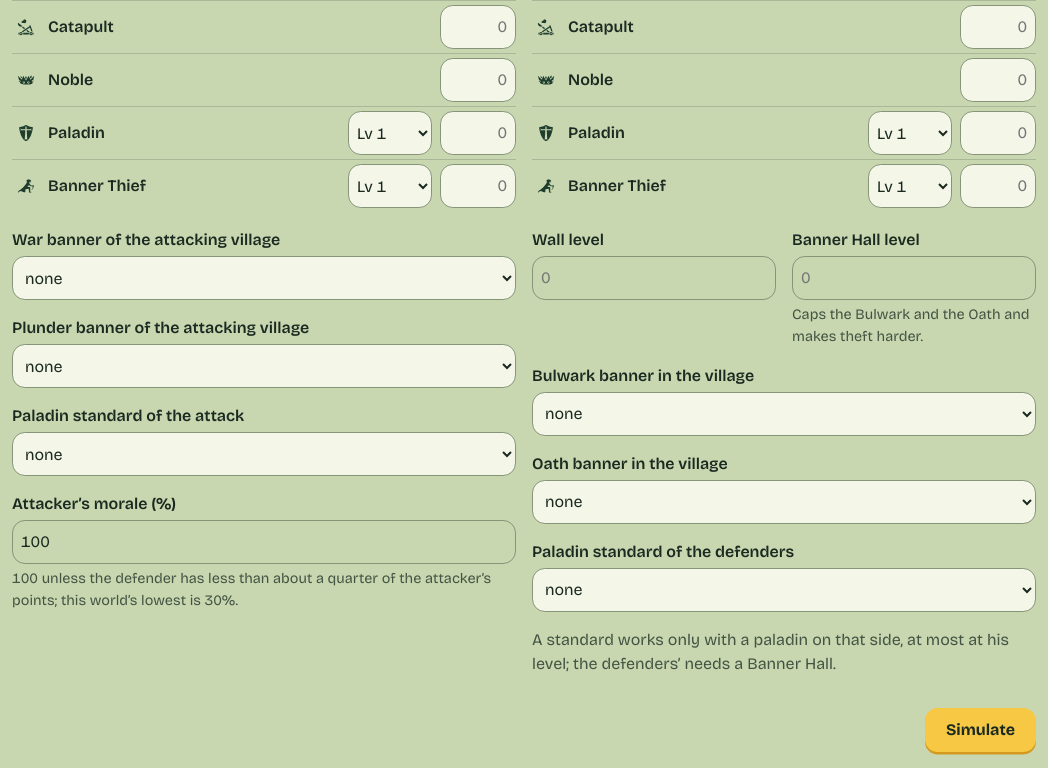
Test: SimulatorPage › asks for an attacking unit before it simulates
(page scrolled)
What coordinates should you click on to do the following:
click the button "Simulate"
I would click on:
 (980, 730)
Its box is x1=925 y1=708 x2=1036 y2=752.
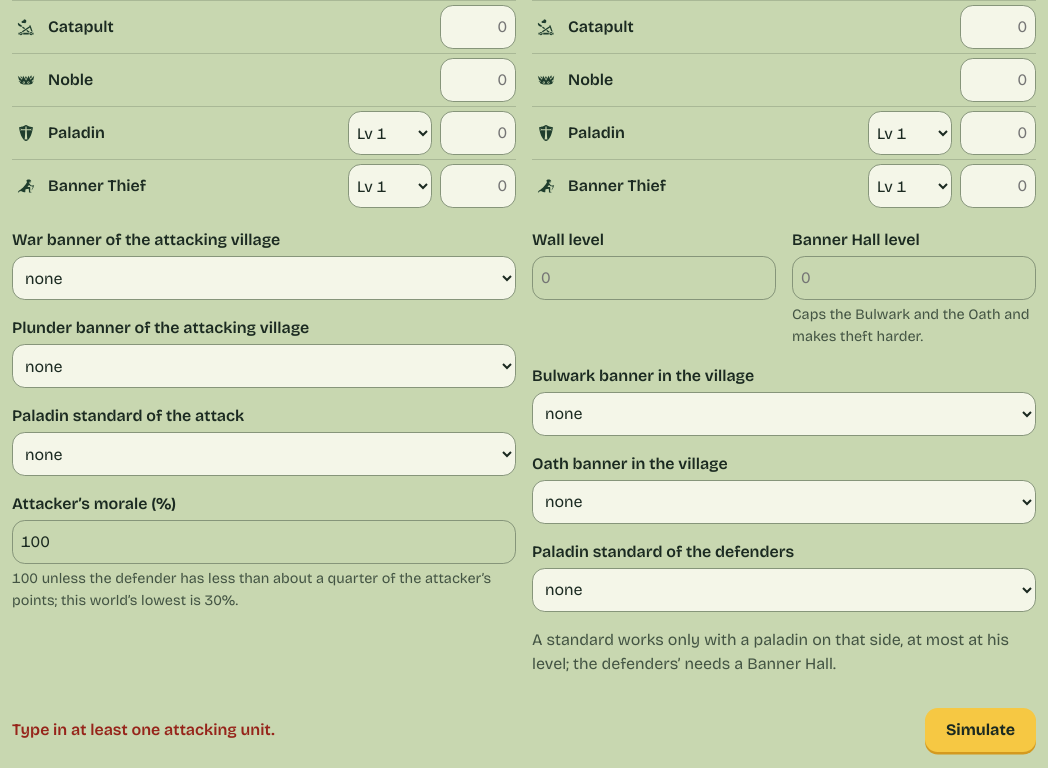
Expected: the text "Type in at least one attacking unit." is shown, x1=12 y1=718 x2=275 y2=742
